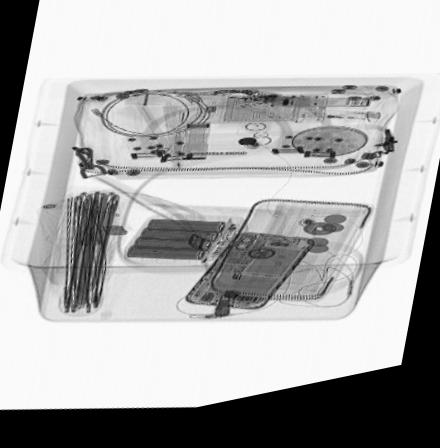Lighter: (282, 119, 381, 138)
